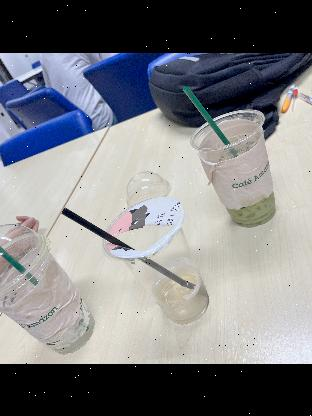Others: (106, 206, 217, 334), (0, 238, 93, 361), (58, 204, 194, 288), (198, 107, 286, 235), (175, 81, 241, 156), (0, 220, 42, 307), (0, 213, 43, 293), (121, 158, 173, 218)
